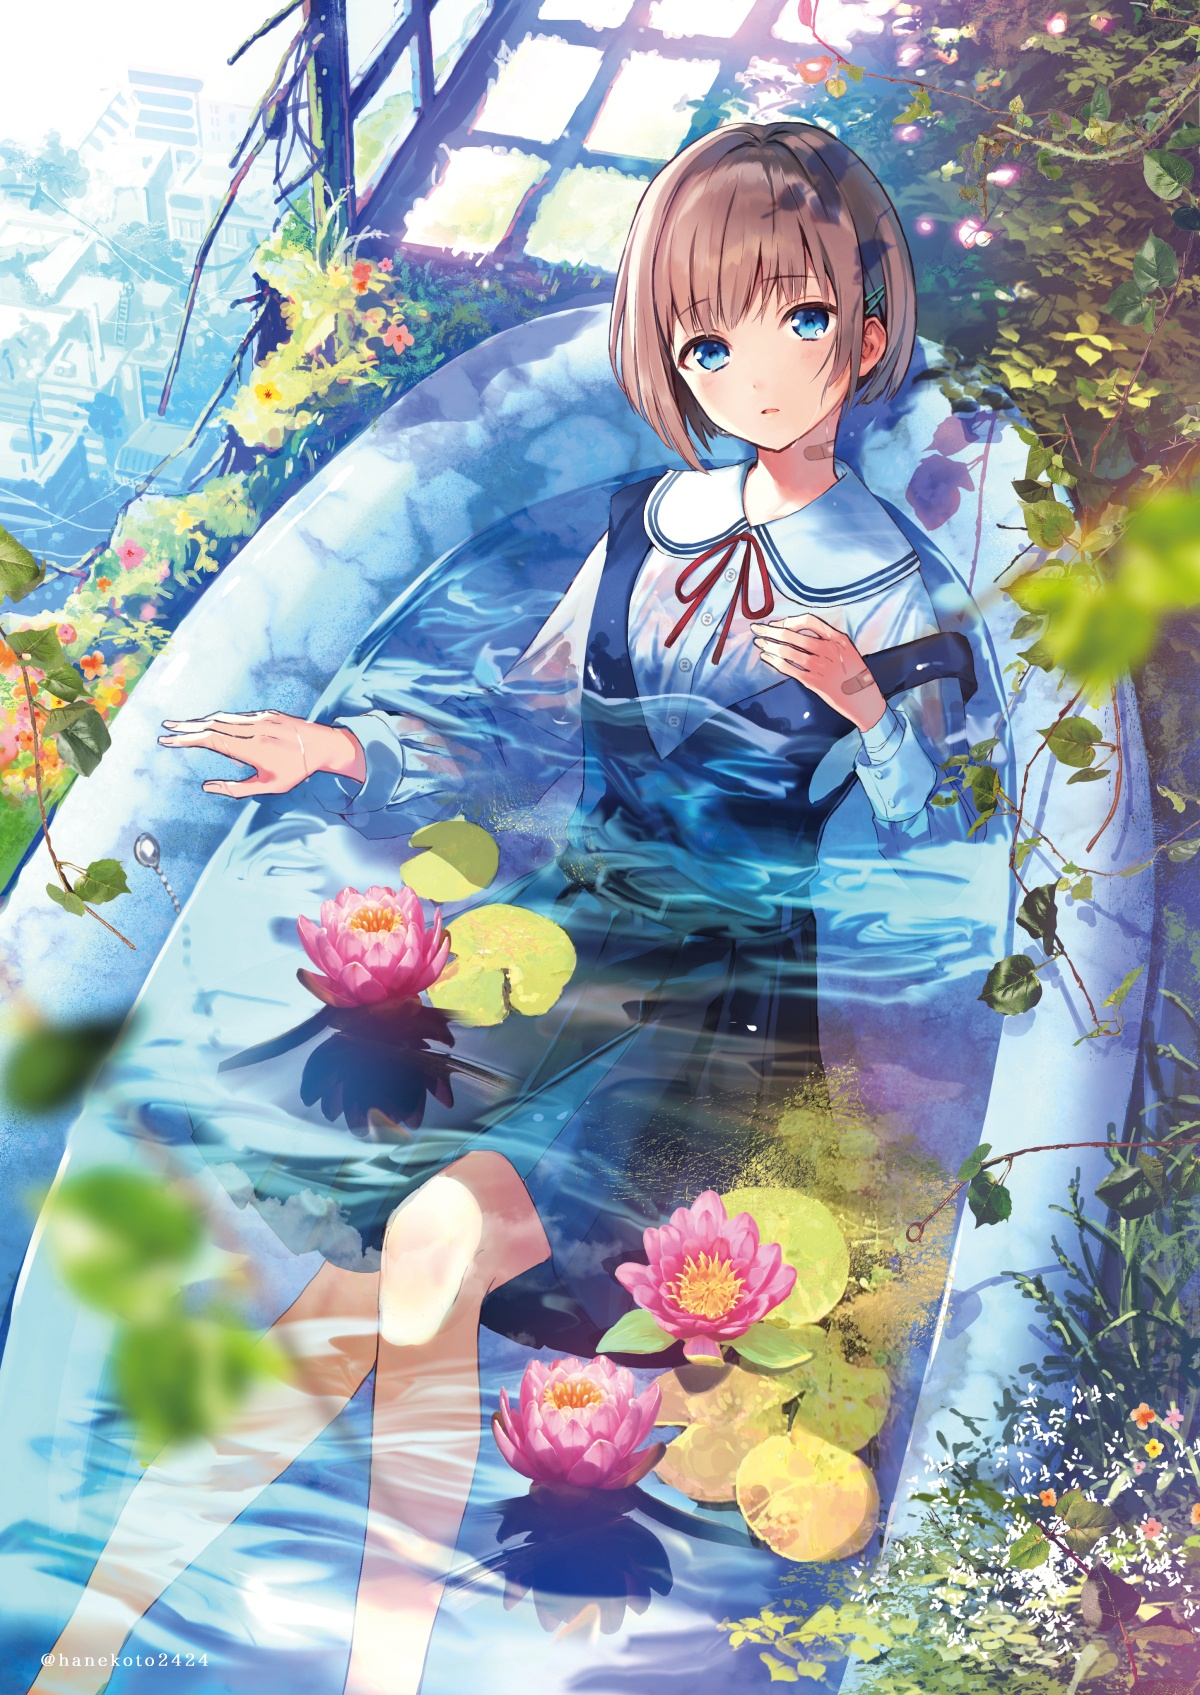纸片人正脸: (616, 117, 918, 461)
